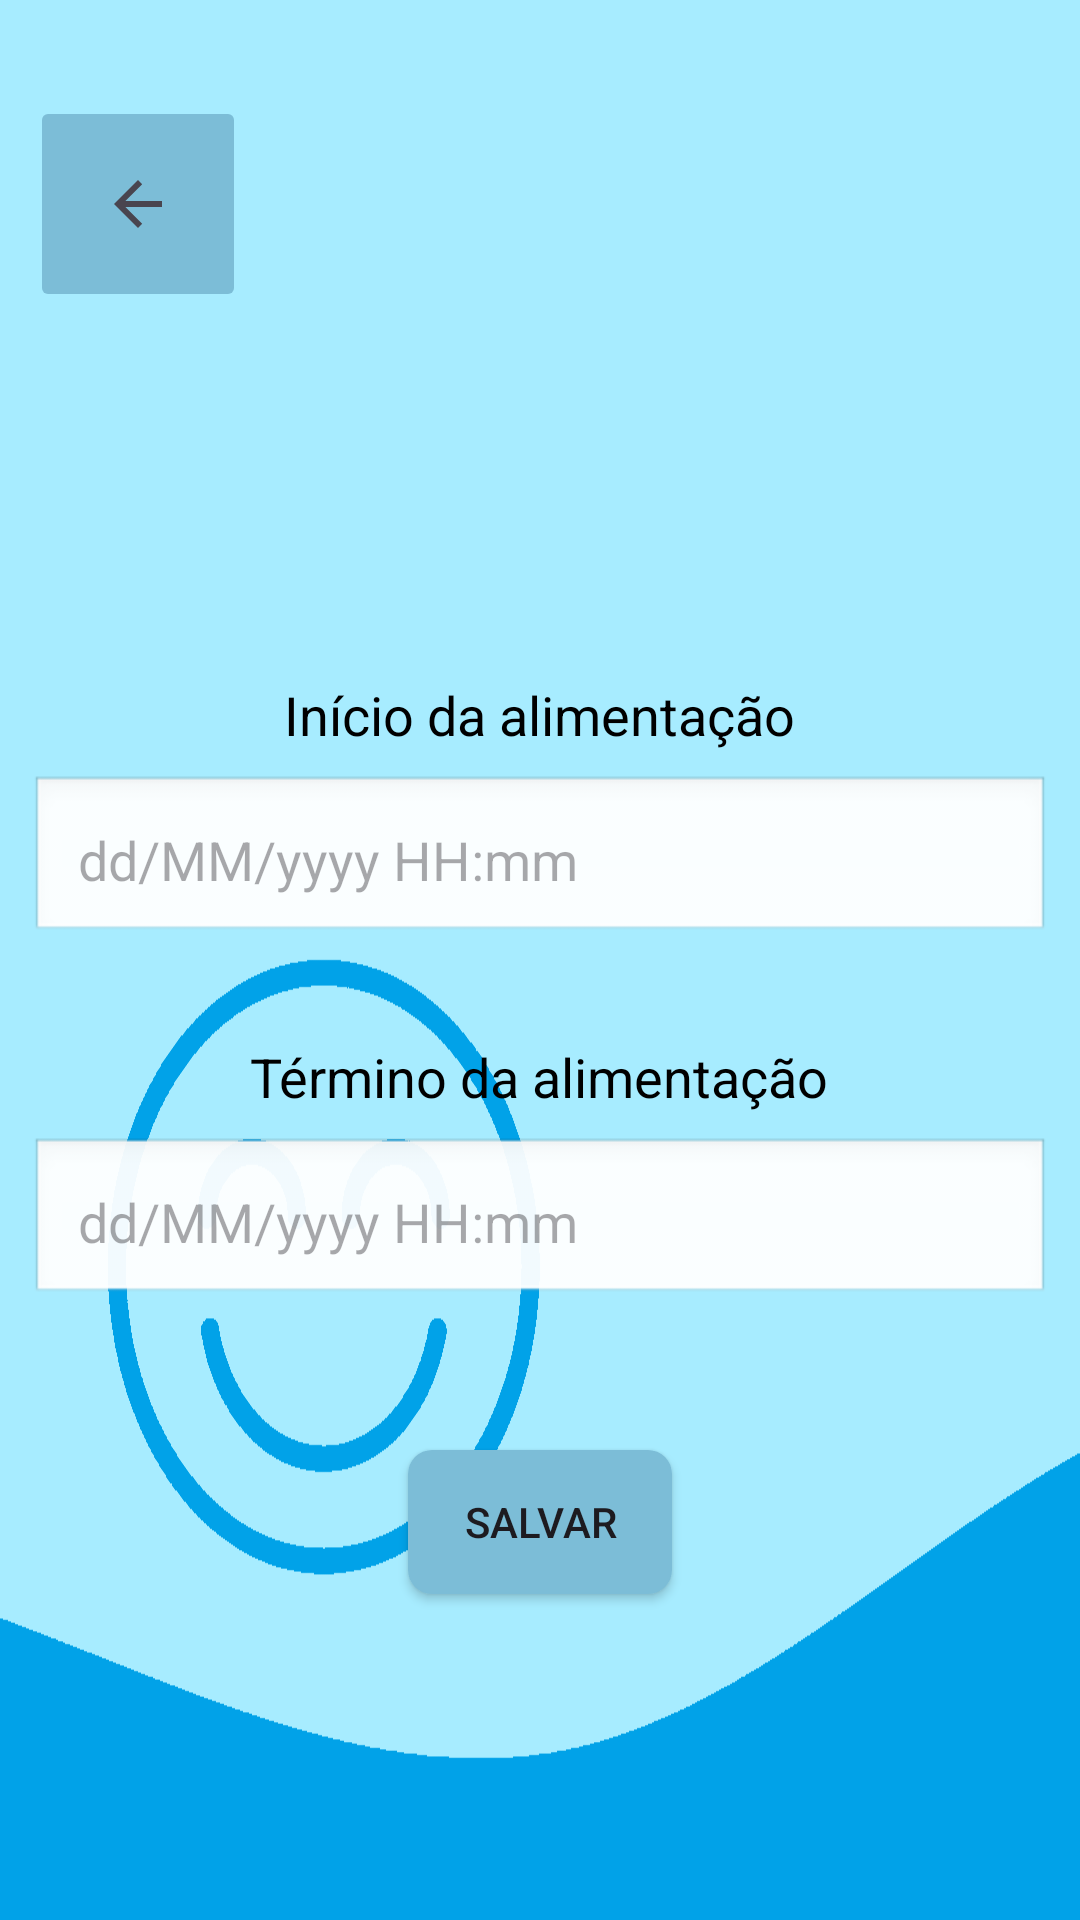

Icon click points for this 1080w x 1920h phone screenshot, format (x=x, y=y):
Voltar: (x=138, y=204)
